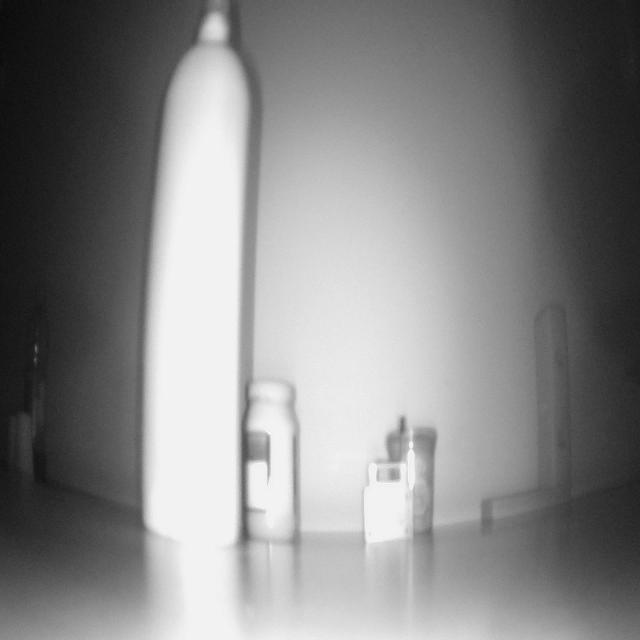targets: (134, 0, 260, 553), (482, 283, 572, 526), (239, 362, 301, 548), (387, 415, 435, 546), (19, 295, 51, 470), (357, 463, 411, 547), (9, 410, 34, 474)
